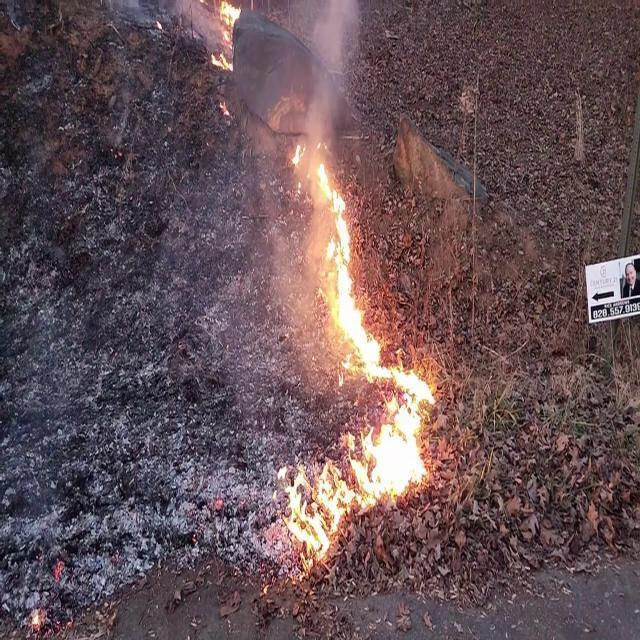Fire: (282, 134, 442, 558), (206, 0, 243, 69)
Smoke: (296, 0, 370, 142)
